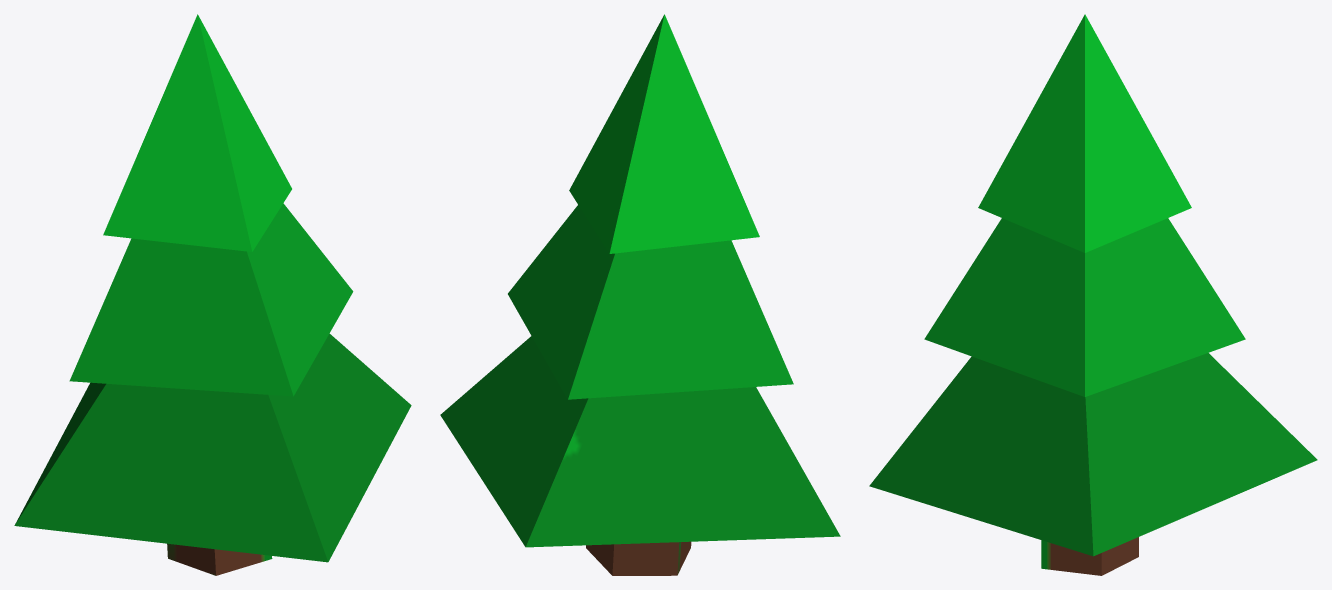
Rendered from tree.fbx.
3 renders of one model, left to right at view 1: azimuth 30°, elevation 25°; view 2: azimuth 150°, elevation 25°; view 3: azimuth 270°, elevation 25°, orthographic. The views are drawn at different scales.
Parts seen in each view (by area): view 1: Cone; view 2: Cone; view 3: Cone.
Part boxes in pixels (x1,y1,x2,y2): Cone: [14, 14, 411, 575]; Cone: [440, 14, 840, 575]; Cone: [869, 14, 1317, 575].
Bounding box in the file's own units: 420 × 551 × 420.
